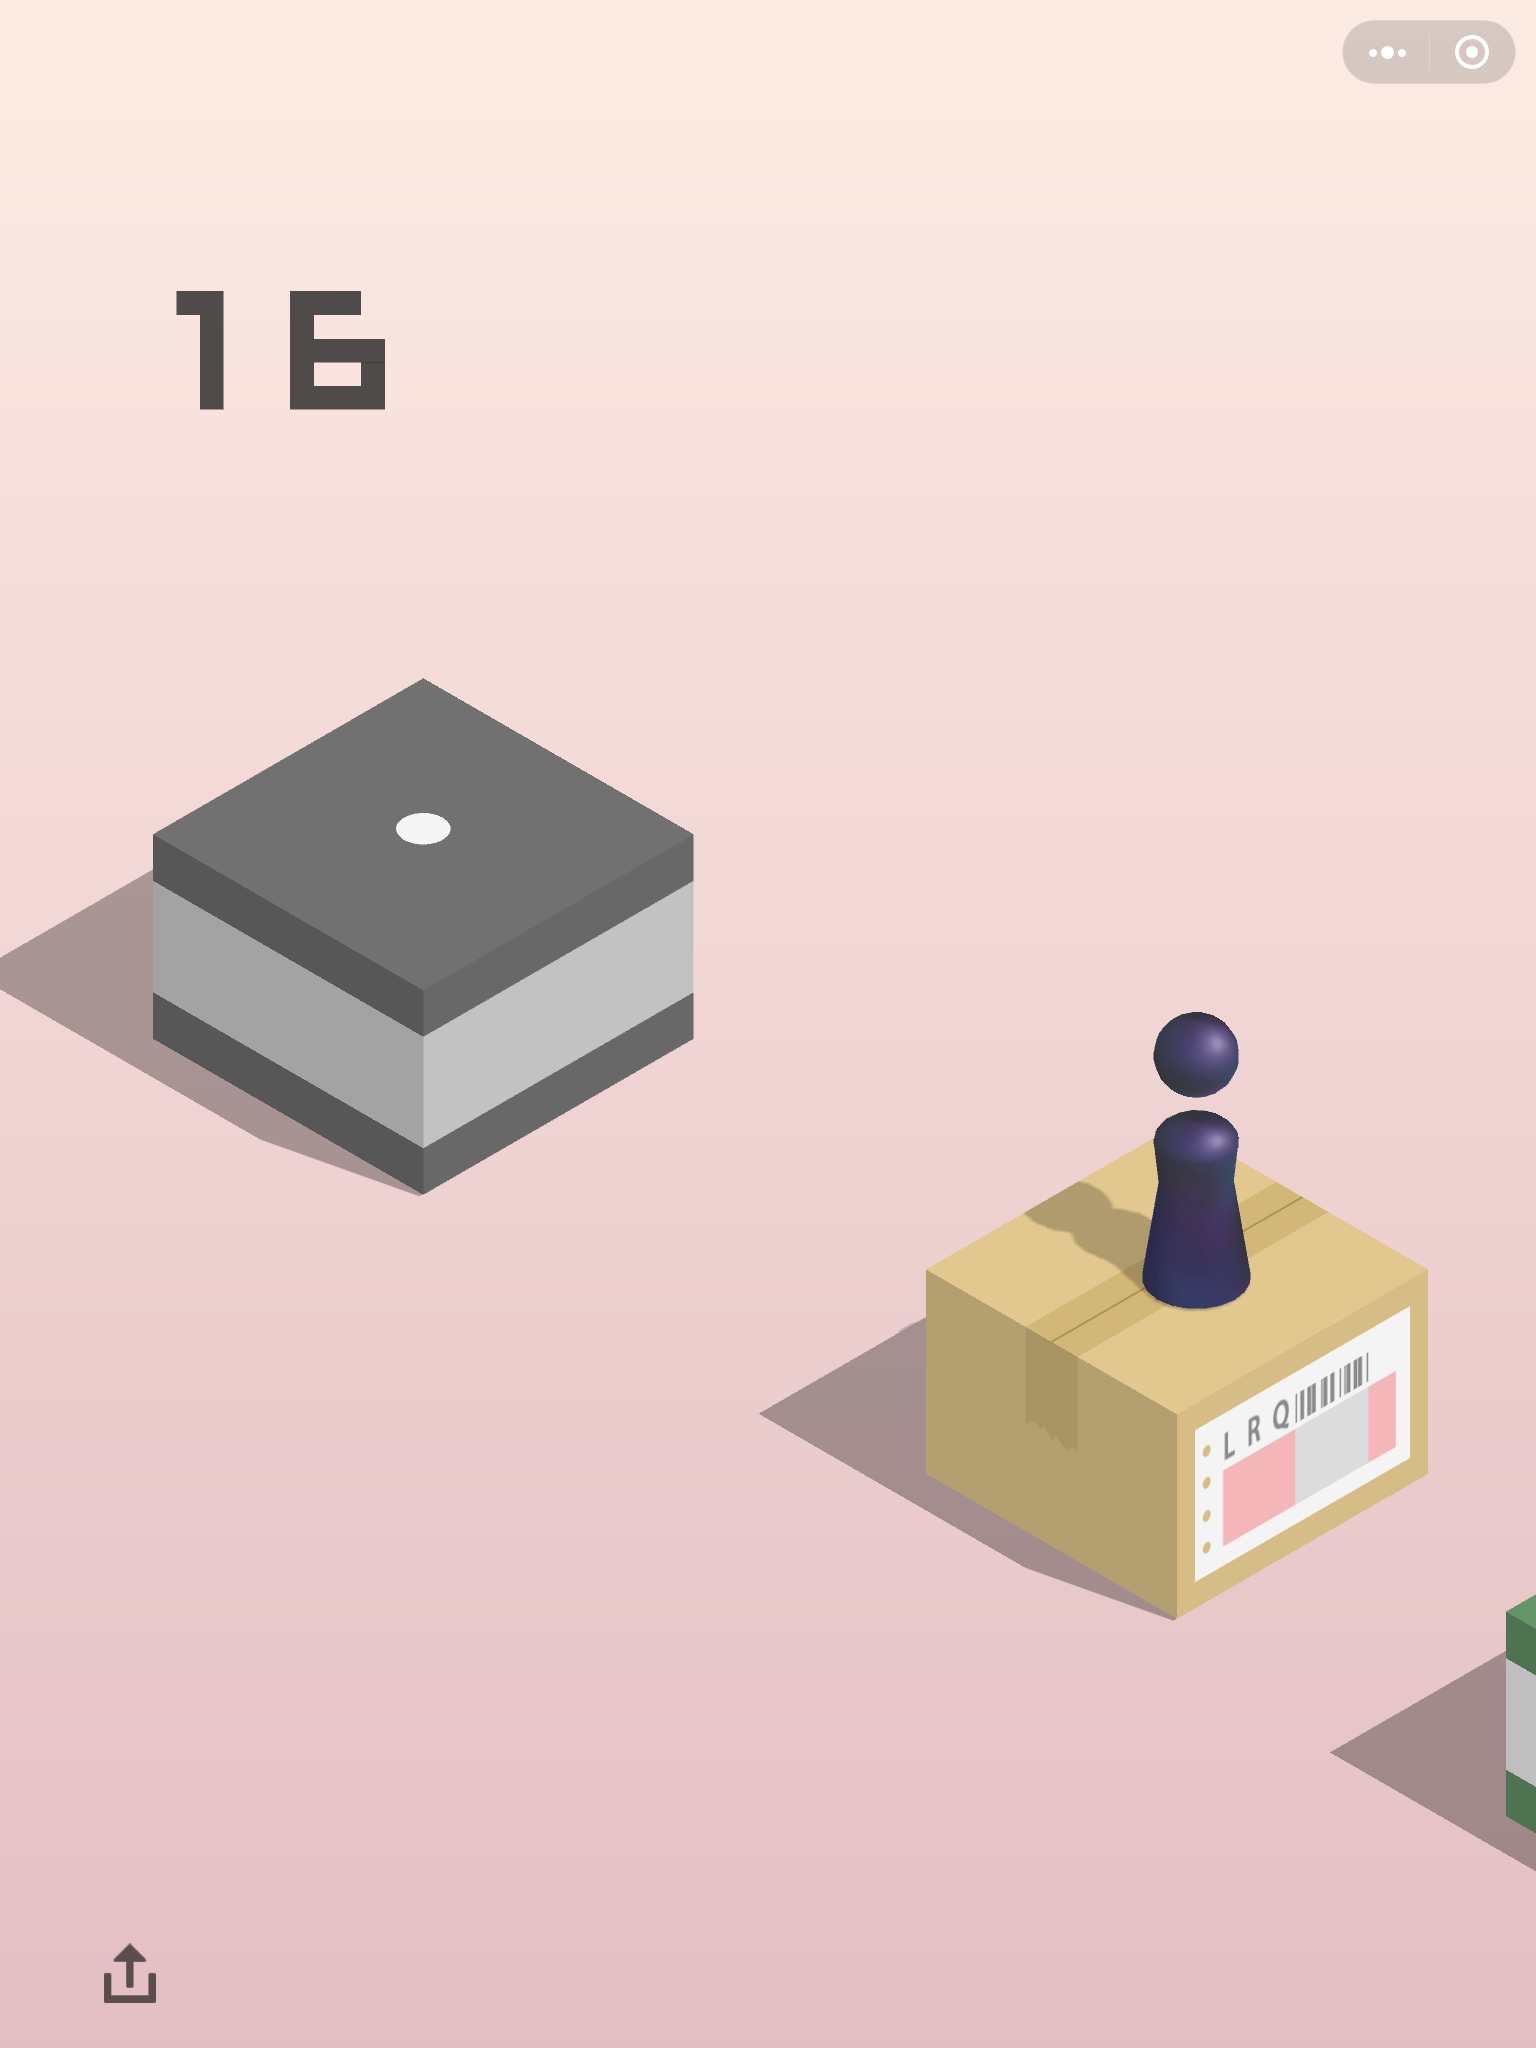f: (145, 676, 700, 1205), (918, 1122, 1436, 1629)
r: (1137, 1005, 1257, 1314)
